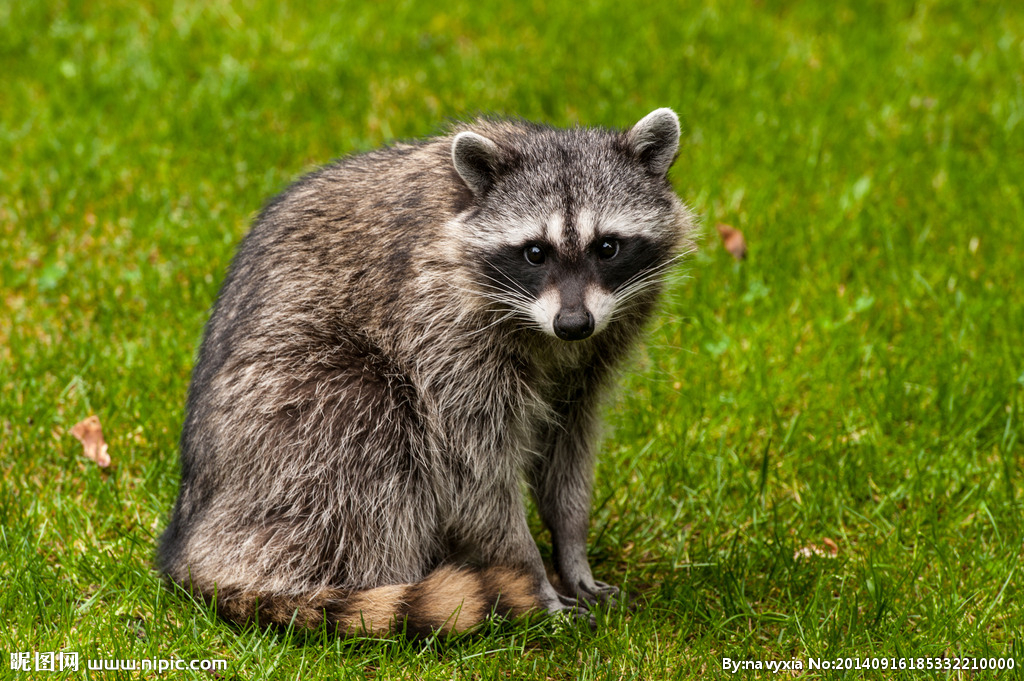raccoon: (137, 83, 714, 655)
